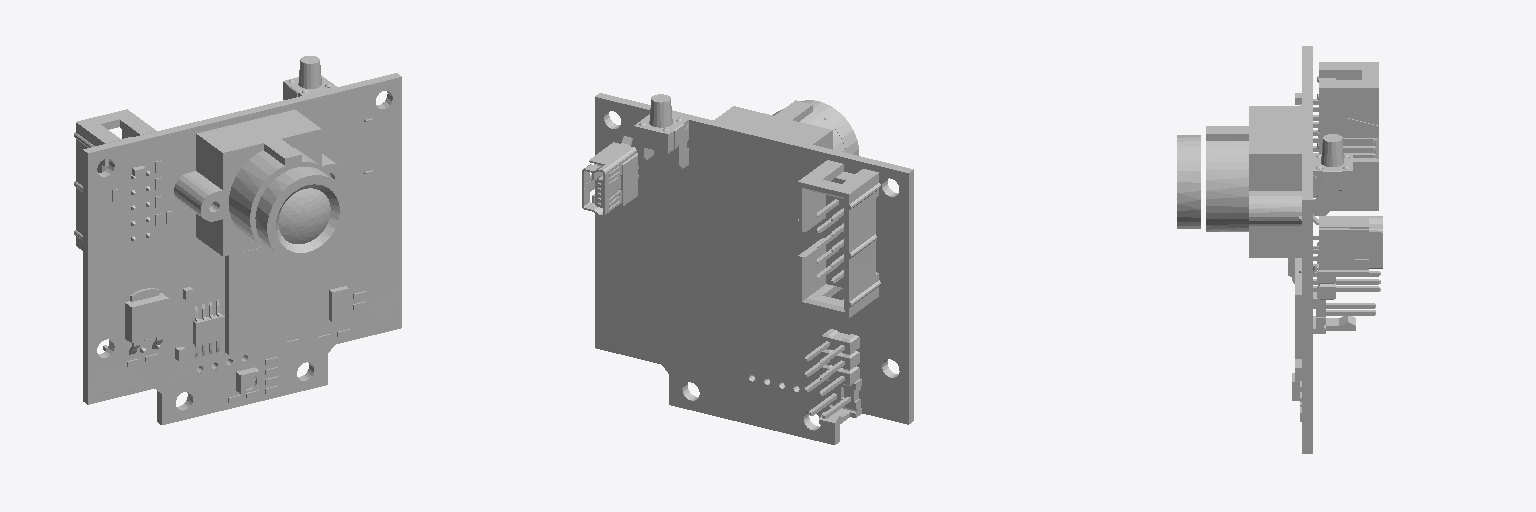
File: Pixy.obj
The picture shows the model from 3 angles: view 1: azimuth 30°, elevation 25°; view 2: azimuth 150°, elevation 25°; view 3: azimuth 270°, elevation 25°; orthographic projection.
Parts seen in each view (by area): view 1: CMUcam5_Pixy_CMUcam5_Pixy.002; view 2: CMUcam5_Pixy_CMUcam5_Pixy.002; view 3: CMUcam5_Pixy_CMUcam5_Pixy.002.
Part boxes in pixels (left/top/right/bottom): CMUcam5_Pixy_CMUcam5_Pixy.002: left=74, top=56, right=401, bottom=424; CMUcam5_Pixy_CMUcam5_Pixy.002: left=582, top=93, right=913, bottom=444; CMUcam5_Pixy_CMUcam5_Pixy.002: left=1177, top=46, right=1382, bottom=453.
Bounding box in the file's own units: 5.4 × 5.16 × 3.05.